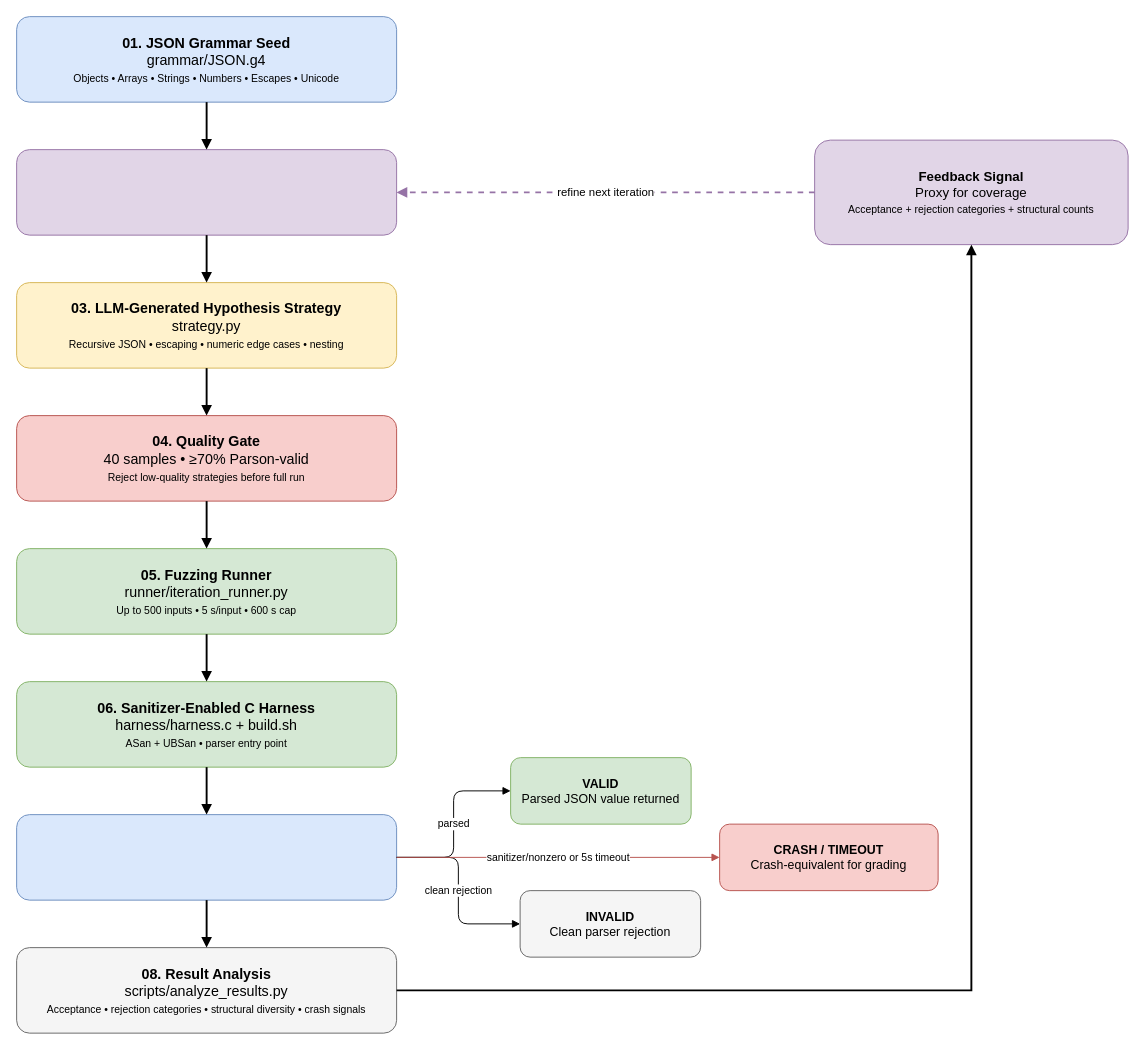
The diagram is 1145 pixels wide and 1050 high, and some of its shapes have lost their labels. Here are the shapes that lost their labels. From the top down, the centre of each, then its label:
the point at 206,192: 02. Agentic Loop runner/agentic_loop.py Grammar + previous strategy + feedback
the point at 206,857: 07. Parson JSON Parser json_parse_string() VALID / INVALID / CRASH / TIMEOUT
